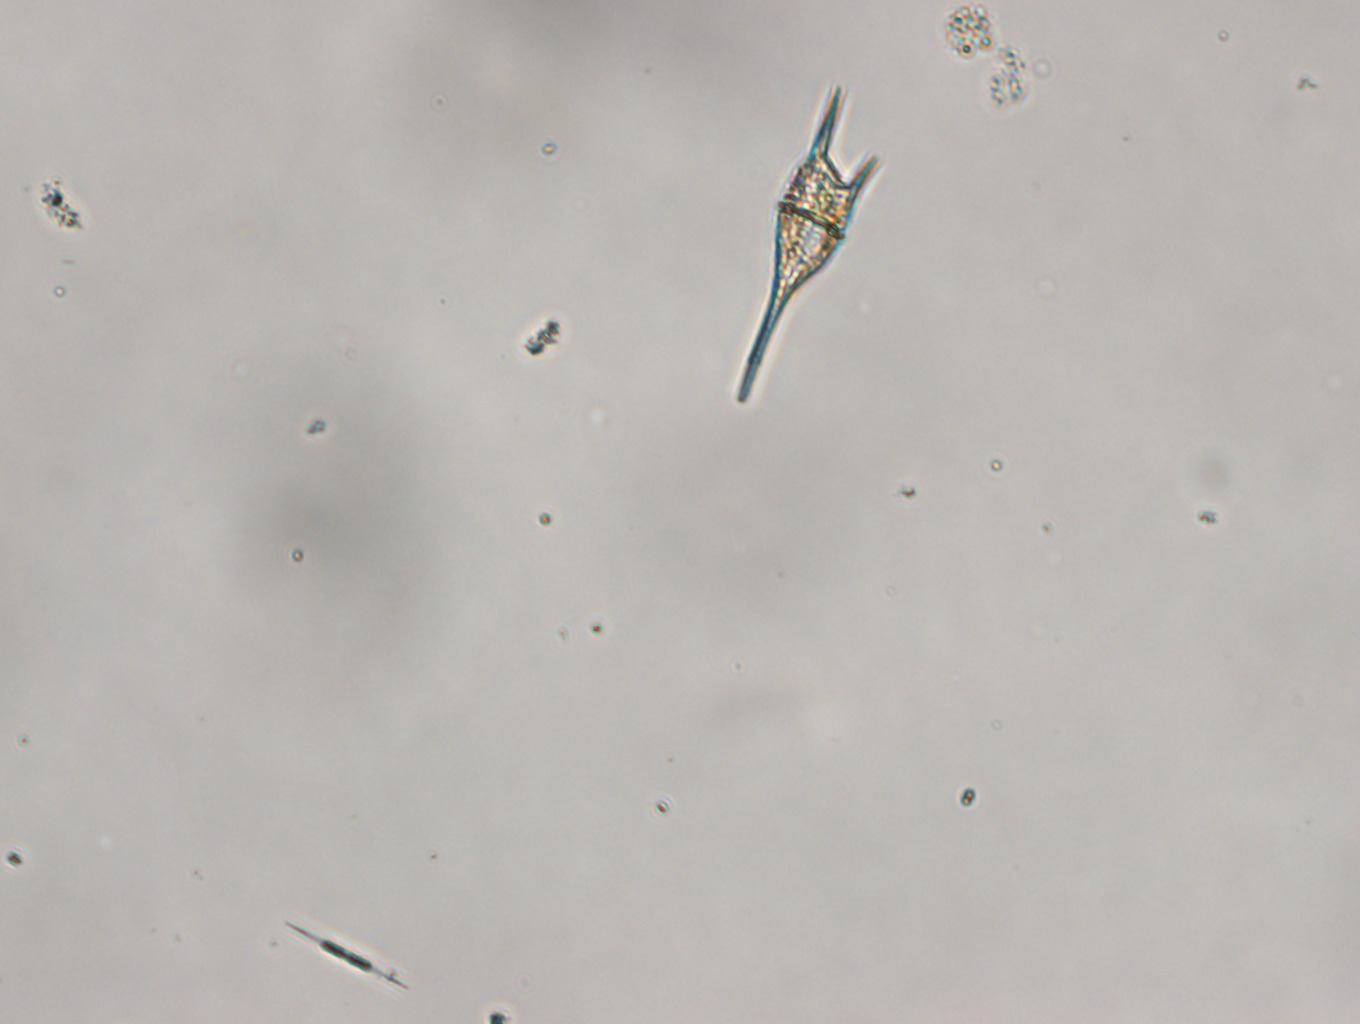ceratium furca: (739, 80, 883, 402)
